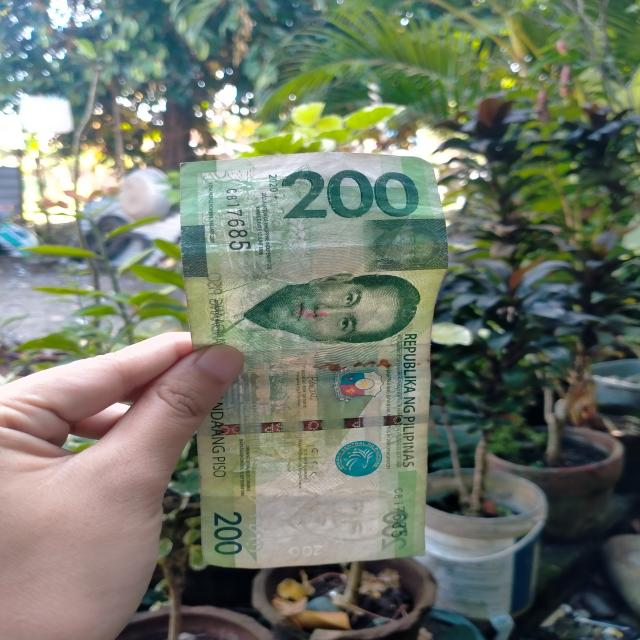concealed_value: (362, 216, 446, 271)
security_thread: (196, 413, 422, 434)
see_through_mark: (244, 483, 268, 561)
serial_number: (221, 186, 254, 256)
value: (275, 164, 420, 223)
value_watermark: (280, 543, 332, 564)
watermark: (257, 477, 395, 542)
